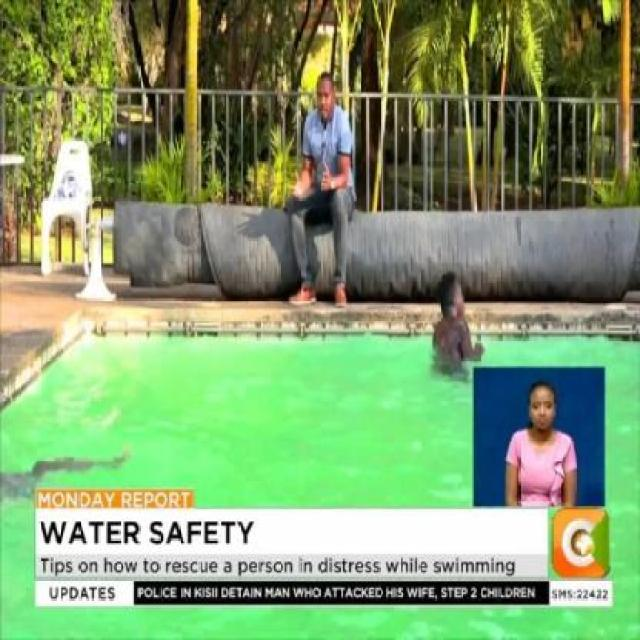Swimming: (410, 269, 512, 383)
